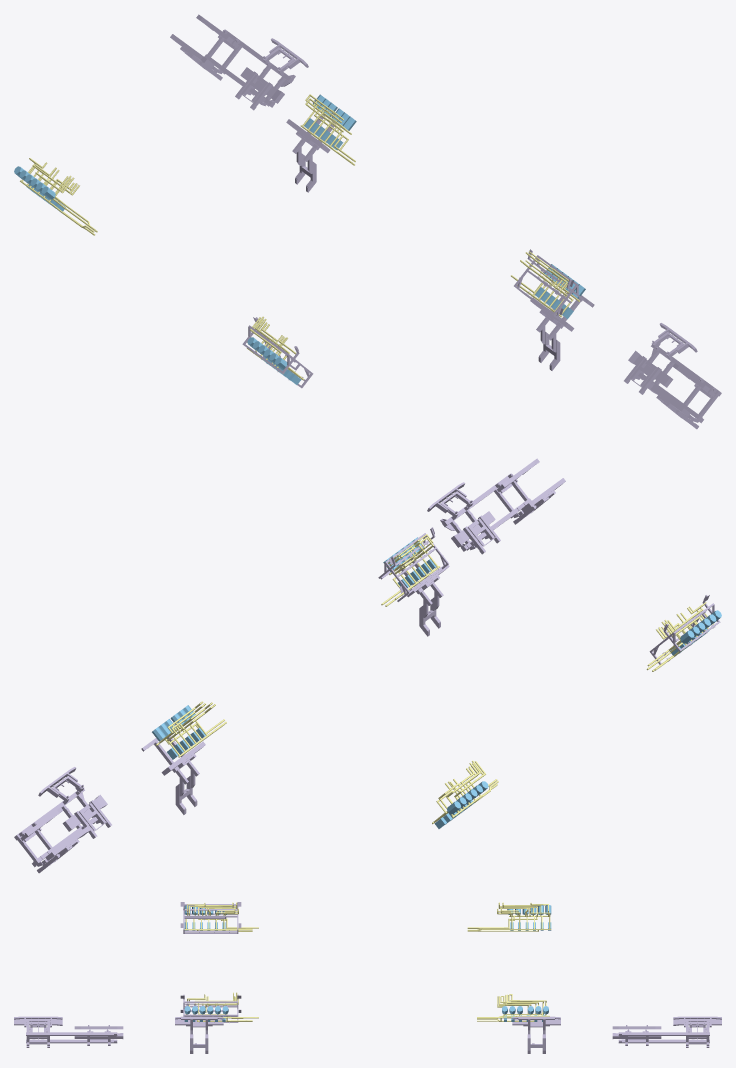
The model's file is Endcap-Calo-Services.glb.
3 renders of one model, top to bottom at view 1: azimuth 30°, elevation 25°; view 2: azimuth 150°, elevation 25°; view 3: azimuth 270°, elevation 25°, orthographic. The views are drawn at different scales.
Parts seen in each view (by area): view 1: _000002AC08615070_IndexedFaceSet, _000002AC086151C0_IndexedFaceSet, _000002AC30A909F0_IndexedFaceSet; view 2: _000002AC08615070_IndexedFaceSet, _000002AC086151C0_IndexedFaceSet, _000002AC30A909F0_IndexedFaceSet; view 3: _000002AC08615070_IndexedFaceSet, _000002AC086151C0_IndexedFaceSet, _000002AC30A909F0_IndexedFaceSet.
Part boxes in pixels (x1=…): _000002AC08615070_IndexedFaceSet: x1=170, y1=14, x2=721, y2=429; _000002AC086151C0_IndexedFaceSet: x1=20, y1=94, x2=579, y2=380; _000002AC30A909F0_IndexedFaceSet: x1=14, y1=94, x2=585, y2=384; _000002AC08615070_IndexedFaceSet: x1=14, y1=458, x2=720, y2=873; _000002AC086151C0_IndexedFaceSet: x1=156, y1=534, x2=713, y2=824; _000002AC30A909F0_IndexedFaceSet: x1=152, y1=537, x2=721, y2=828; _000002AC08615070_IndexedFaceSet: x1=14, y1=902, x2=721, y2=1053; _000002AC086151C0_IndexedFaceSet: x1=184, y1=902, x2=551, y2=1021; _000002AC30A909F0_IndexedFaceSet: x1=184, y1=905, x2=551, y2=1021.
Bounding box in the file's own units: 8.97 × 2.33 × 23.29.
